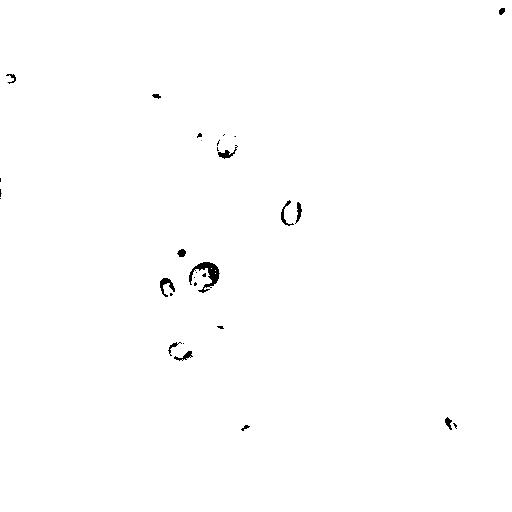micro-algae: (224, 407, 261, 445), (185, 259, 221, 295), (165, 233, 198, 268), (214, 131, 241, 163), (273, 171, 300, 203), (487, 1, 511, 32), (279, 197, 304, 226), (165, 341, 196, 362), (159, 276, 177, 299), (1, 175, 16, 199), (443, 413, 459, 433), (2, 70, 19, 85), (193, 130, 205, 147)
